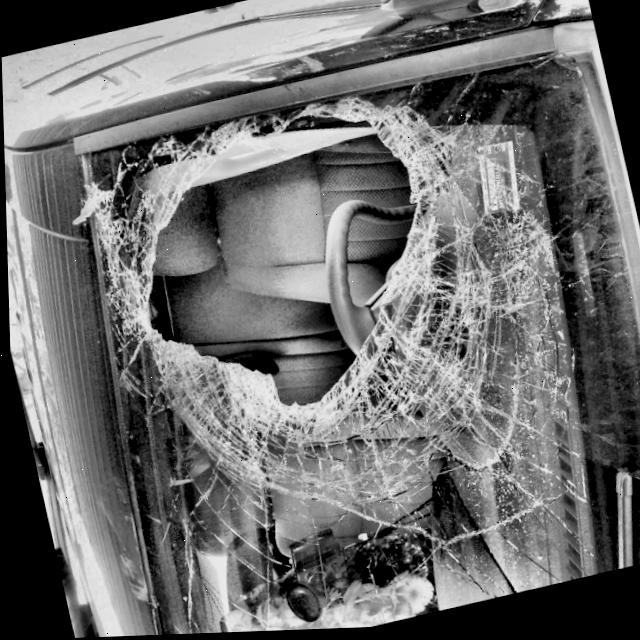glass_shatter: (79, 72, 524, 555)
